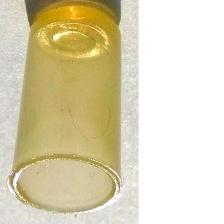glass: (4, 0, 134, 219)
